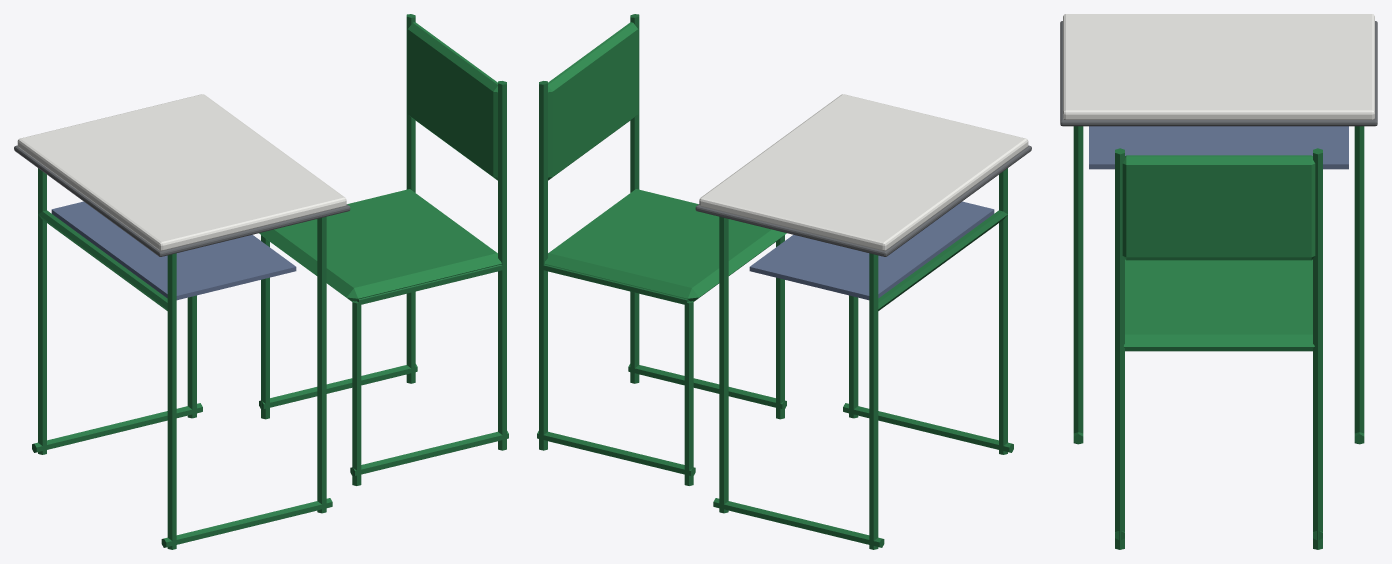
Rendered from carteira_fnde_realista.glb.
3 views of the same model, side by side, from view 1: azimuth 30°, elevation 25°; view 2: azimuth 150°, elevation 25°; view 3: azimuth 270°, elevation 25° (orthographic). The views are drawn at different scales.
Visible parts, largest first — view 1: Carteira_110_159.001; view 2: Carteira_110_159.001; view 3: Carteira_110_159.001.
Part boxes in pixels (x1=…): Carteira_110_159.001: x1=14, y1=14, x2=508, y2=549; Carteira_110_159.001: x1=537, y1=14, x2=1031, y2=549; Carteira_110_159.001: x1=1060, y1=14, x2=1377, y2=549.
Size of the model in its own units: 0.905 by 0.8413 by 0.61.
